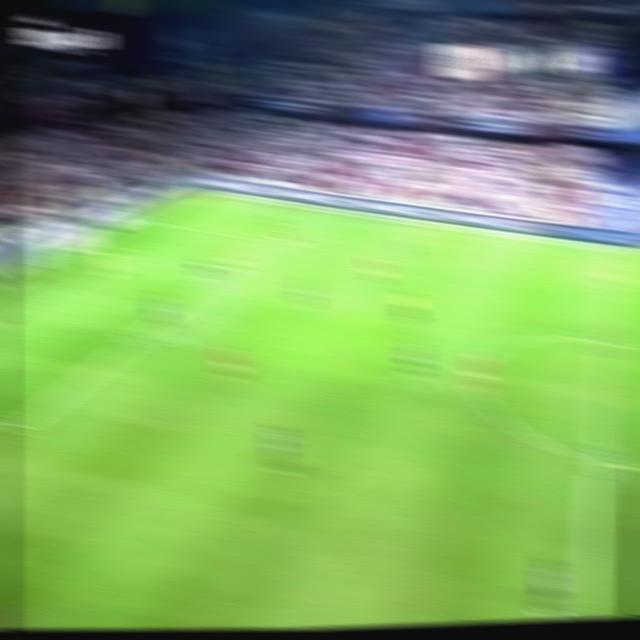bigarea_bottom_inner: (5, 410, 38, 437)
bigarea_top_inner: (256, 229, 284, 249)
bigarea_top_outter: (124, 209, 157, 229)
bottom_arc_area_intersection: (120, 330, 148, 352)
corner: (185, 183, 216, 200)
halfcircle_bottom: (580, 442, 620, 479)
halfcircle_top: (589, 325, 624, 357)
midline_top_intersection: (595, 244, 631, 260)
smallarea_bottom_inner: (0, 315, 14, 337)
smallarea_top_inner: (111, 246, 143, 265)
smallarea_top_outter: (65, 236, 102, 261)
top_arc_area_intersection: (201, 269, 230, 291)
